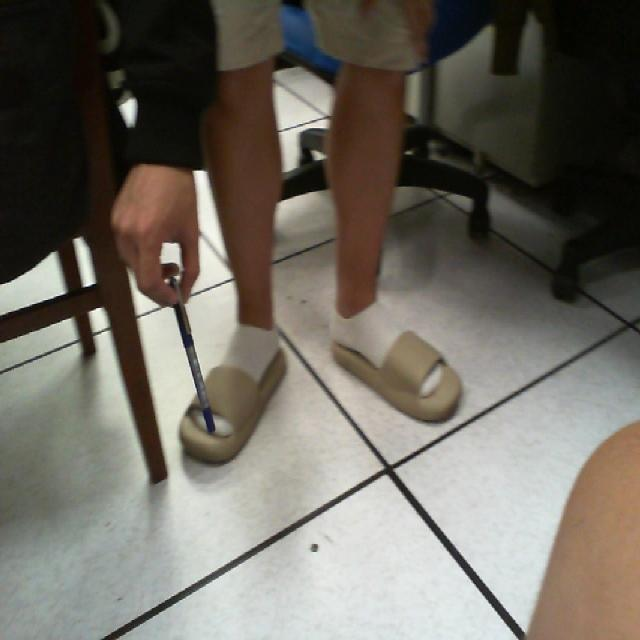Pen: (152, 268, 234, 450)
